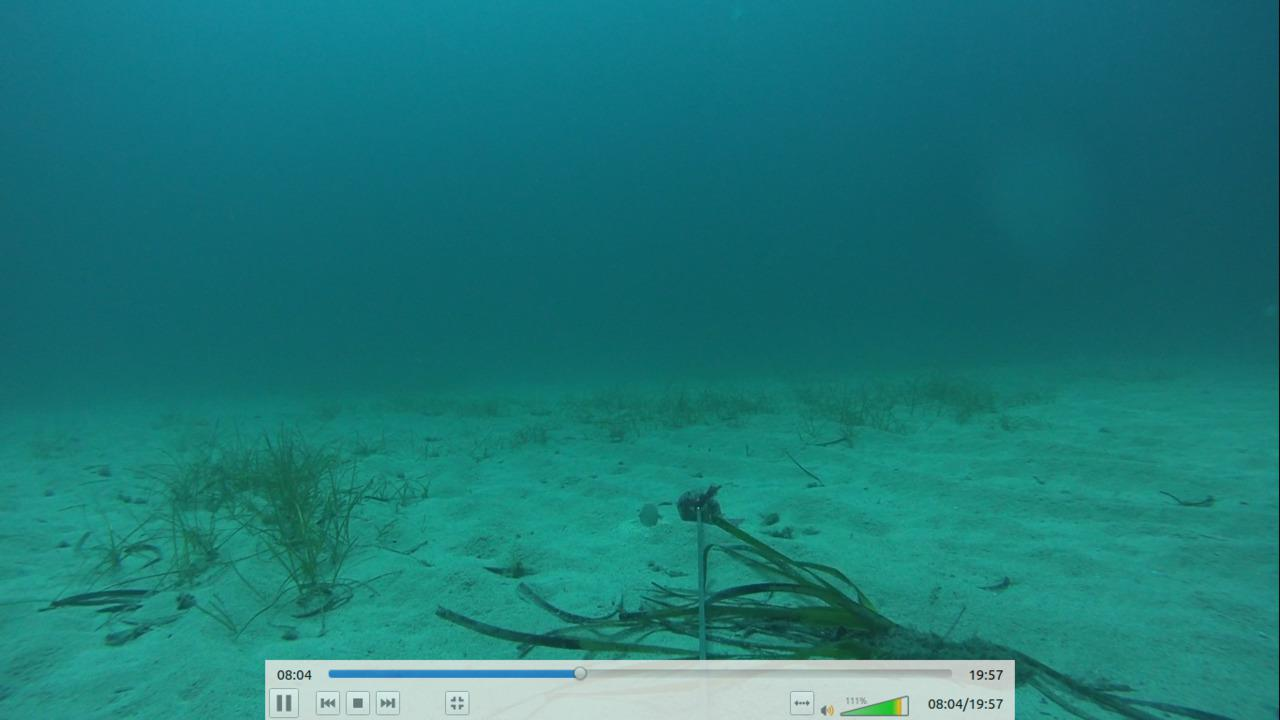raor: (630, 495, 664, 528)
